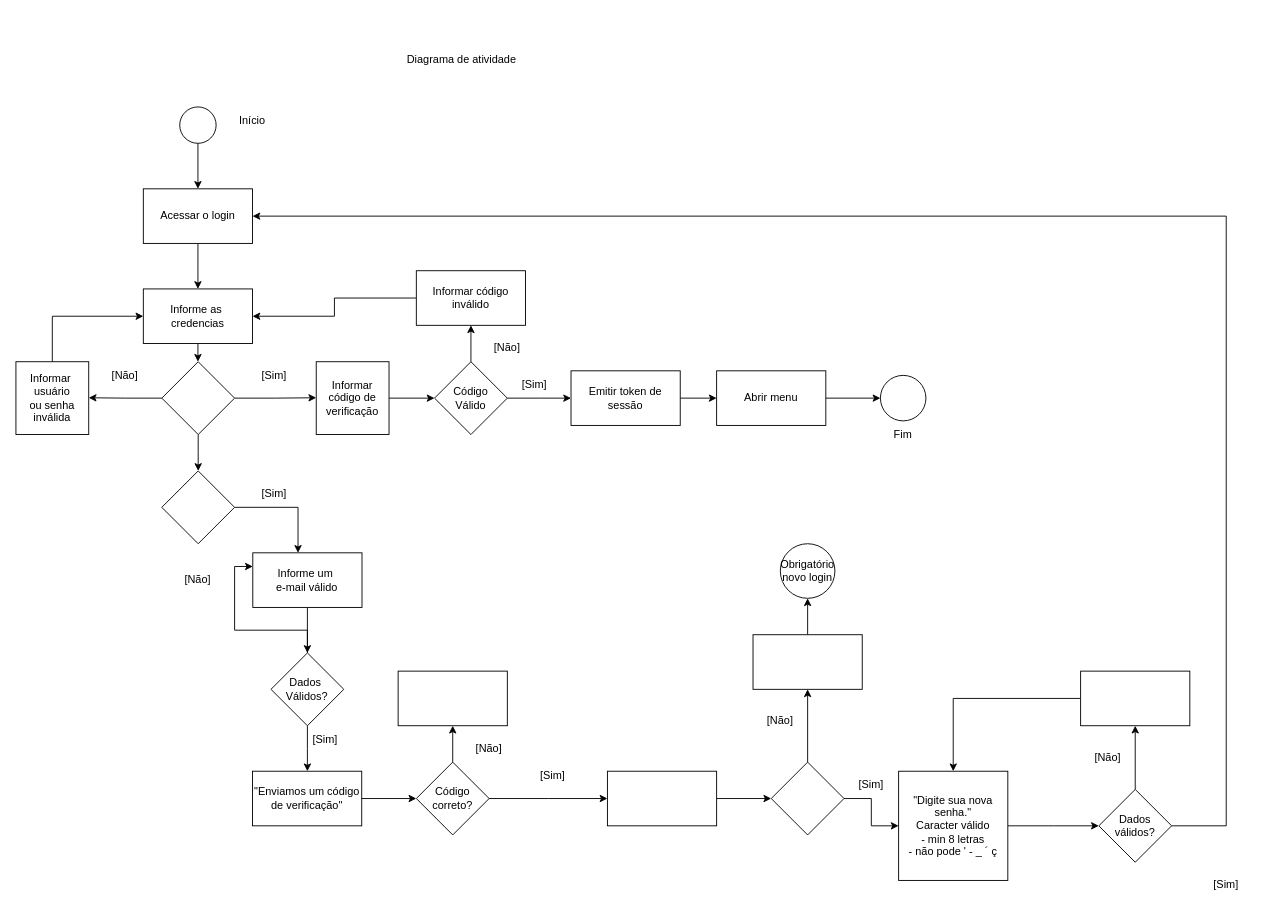
The diagram is 1269 pixels wide and 914 high, and some of its shapes have lost their labels. The shapes that lost their labels are listed below. From the top down, each one's centre as x and y in pixels, then its label:
pixel 198 398: Dados validos?
pixel 198 507: Esqueceu senha
pixel 807 661: "Por favor informe uma nova senha."
pixel 452 698: "Informe um código válido."
pixel 1135 698: "Informe senha válida"
pixel 662 798: "Deseja mudar senha?"
pixel 807 798: Solicitar uma nova senha
